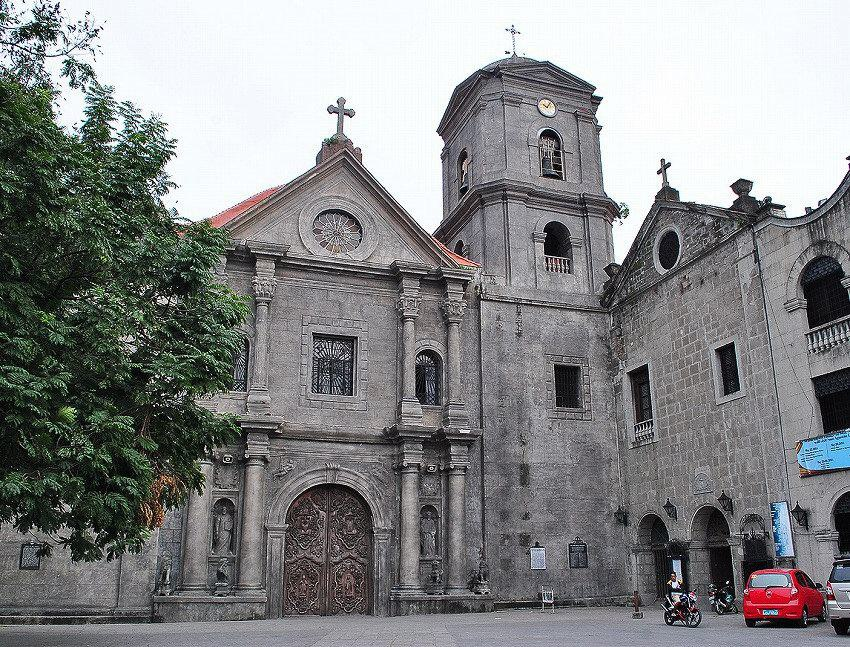san_agustin_church_intramuros_manila: (171, 19, 635, 609)
